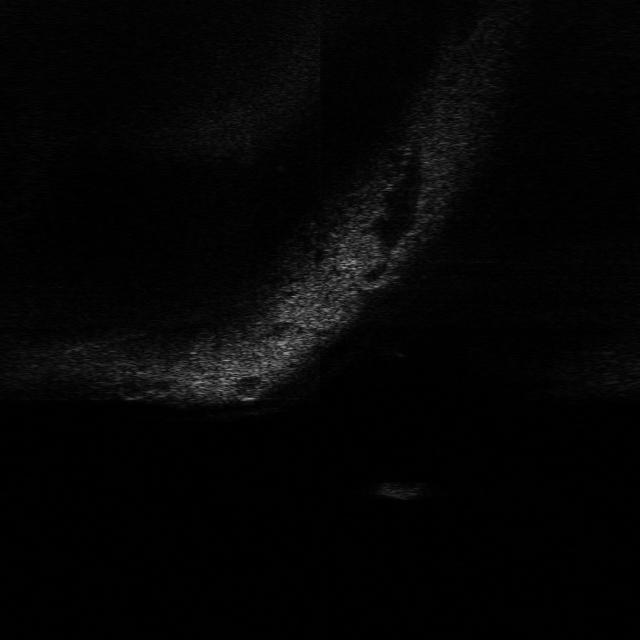cube: (370, 478, 434, 502)
